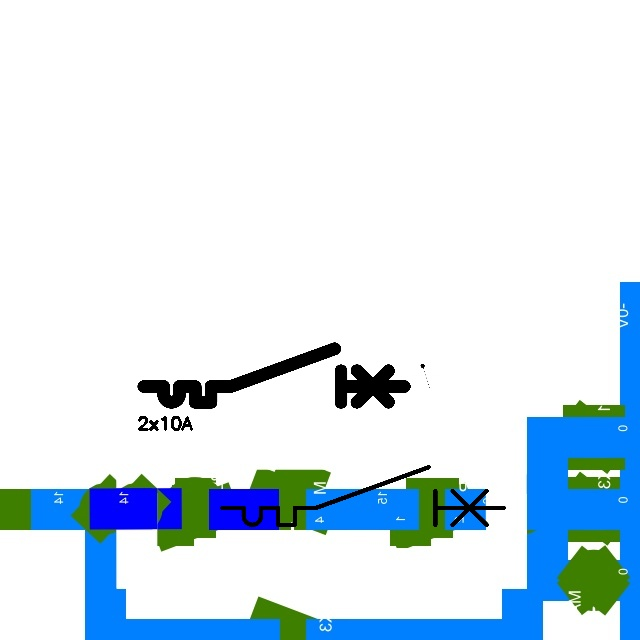interruptor_termomagnetico: (215, 460, 511, 532), (137, 342, 411, 409)
